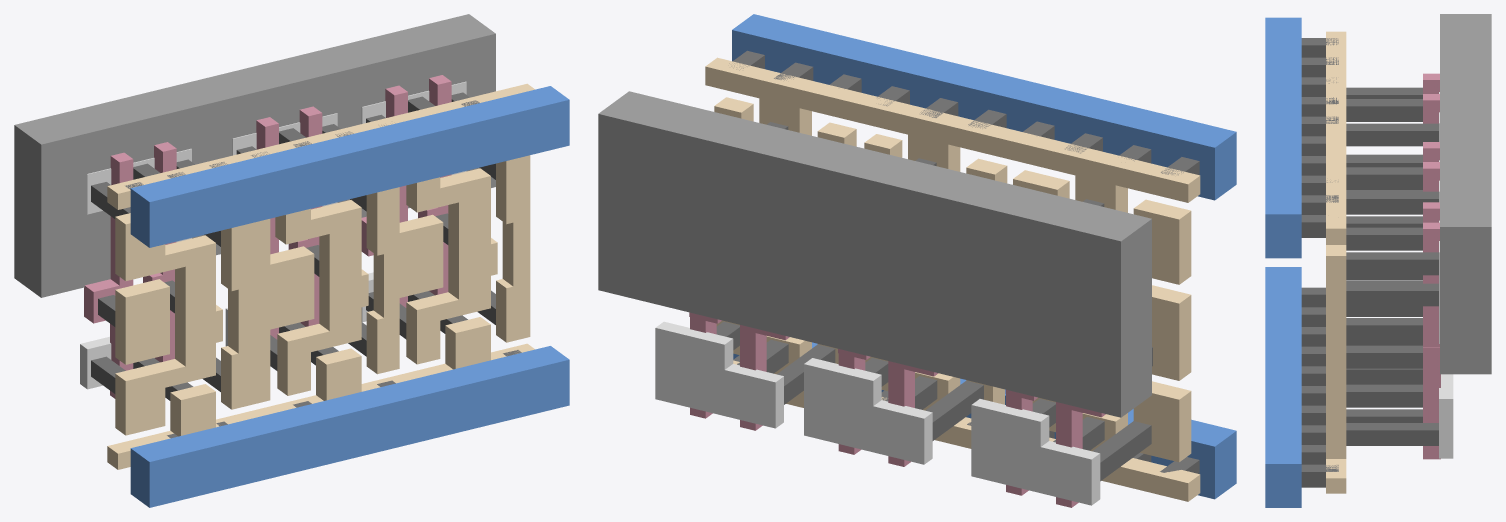
File: sky130_fd_sc_hd__dlymetal6s2s_1.gds.gltf
3 views of the same model, side by side, from view 1: azimuth 30°, elevation 25°; view 2: azimuth 150°, elevation 25°; view 3: azimuth 270°, elevation 25° (orthographic). The views are drawn at different scales.
Parts seen in each view (by area): view 1: sky130_fd_sc_hd__dlymetal6s2s_1_li1, sky130_fd_sc_hd__dlymetal6s2s_1_met1, sky130_fd_sc_hd__dlymetal6s2s_1_nwell, sky130_fd_sc_hd__dlymetal6s2s_1_poly, sky130_fd_sc_hd__dlymetal6s2s_1_licon, sky130_fd_sc_hd__dlymetal6s2s_1_diff, sky130_fd_sc_hd__dlymetal6s2s_1_mcon; view 2: sky130_fd_sc_hd__dlymetal6s2s_1_nwell, sky130_fd_sc_hd__dlymetal6s2s_1_li1, sky130_fd_sc_hd__dlymetal6s2s_1_diff, sky130_fd_sc_hd__dlymetal6s2s_1_met1, sky130_fd_sc_hd__dlymetal6s2s_1_licon, sky130_fd_sc_hd__dlymetal6s2s_1_poly, sky130_fd_sc_hd__dlymetal6s2s_1_mcon; view 3: sky130_fd_sc_hd__dlymetal6s2s_1_licon, sky130_fd_sc_hd__dlymetal6s2s_1_nwell, sky130_fd_sc_hd__dlymetal6s2s_1_met1, sky130_fd_sc_hd__dlymetal6s2s_1_mcon, sky130_fd_sc_hd__dlymetal6s2s_1_li1, sky130_fd_sc_hd__dlymetal6s2s_1_poly, sky130_fd_sc_hd__dlymetal6s2s_1_diff.
Part boxes in pixels (box(x1,y1,x2,y2)): sky130_fd_sc_hd__dlymetal6s2s_1_li1: box(107, 83, 534, 469); sky130_fd_sc_hd__dlymetal6s2s_1_met1: box(130, 86, 569, 507); sky130_fd_sc_hd__dlymetal6s2s_1_nwell: box(14, 14, 495, 297); sky130_fd_sc_hd__dlymetal6s2s_1_poly: box(84, 75, 451, 398); sky130_fd_sc_hd__dlymetal6s2s_1_licon: box(91, 92, 495, 400); sky130_fd_sc_hd__dlymetal6s2s_1_diff: box(80, 81, 466, 389); sky130_fd_sc_hd__dlymetal6s2s_1_mcon: box(125, 100, 521, 438); sky130_fd_sc_hd__dlymetal6s2s_1_nwell: box(598, 91, 1151, 417); sky130_fd_sc_hd__dlymetal6s2s_1_li1: box(705, 57, 1200, 501); sky130_fd_sc_hd__dlymetal6s2s_1_diff: box(655, 321, 1100, 505); sky130_fd_sc_hd__dlymetal6s2s_1_met1: box(732, 14, 1236, 499); sky130_fd_sc_hd__dlymetal6s2s_1_licon: box(716, 122, 1152, 481); sky130_fd_sc_hd__dlymetal6s2s_1_poly: box(689, 312, 1105, 507); sky130_fd_sc_hd__dlymetal6s2s_1_mcon: box(729, 50, 1199, 473); sky130_fd_sc_hd__dlymetal6s2s_1_licon: box(1346, 87, 1438, 445); sky130_fd_sc_hd__dlymetal6s2s_1_nwell: box(1440, 14, 1491, 374); sky130_fd_sc_hd__dlymetal6s2s_1_met1: box(1265, 17, 1301, 507); sky130_fd_sc_hd__dlymetal6s2s_1_mcon: box(1301, 38, 1338, 487); sky130_fd_sc_hd__dlymetal6s2s_1_li1: box(1326, 31, 1346, 493); sky130_fd_sc_hd__dlymetal6s2s_1_poly: box(1423, 73, 1440, 459); sky130_fd_sc_hd__dlymetal6s2s_1_diff: box(1439, 92, 1453, 458).
Size of the model in its own units: 4.98 by 3.2 by 2.24.
